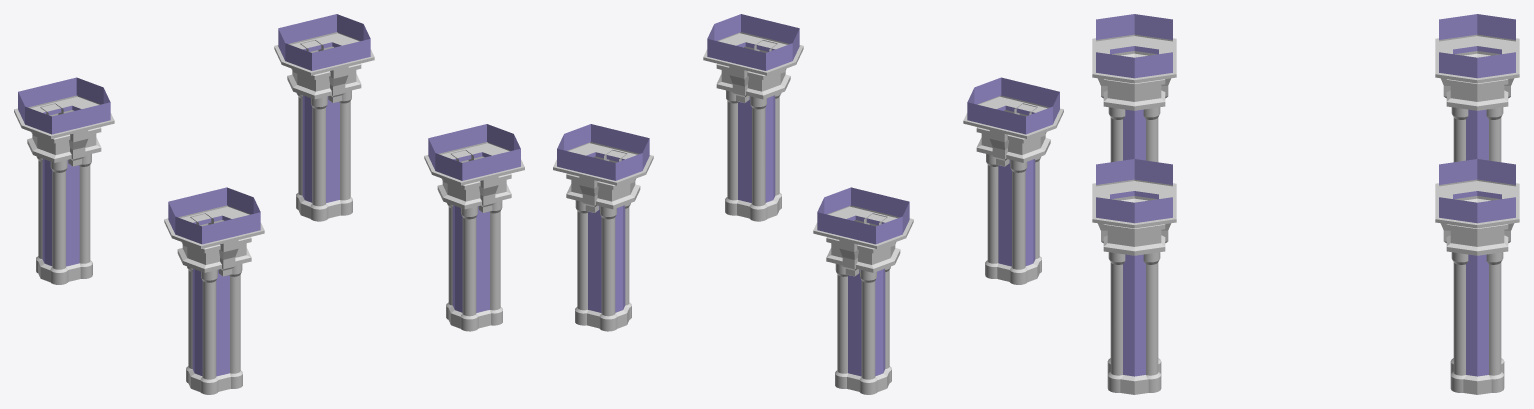
File: Exit Pillars.fbx
3 views of the same model, side by side, from view 1: azimuth 30°, elevation 25°; view 2: azimuth 150°, elevation 25°; view 3: azimuth 270°, elevation 25° (orthographic). The views are drawn at different scales.
Visible parts, largest first — view 1: pillar.028, pillar.029, pillar.027, pillar.030; view 2: pillar.027, pillar.030, pillar.028, pillar.029; view 3: pillar.027, pillar.028, pillar.029, pillar.030.
Boxes of the visible parts, x1,y1,x2,y2 form: pillar.028: (274,14,374,221); pillar.029: (164,187,264,394); pillar.027: (424,124,524,331); pillar.030: (14,77,114,284); pillar.027: (703,14,803,221); pillar.030: (813,187,913,394); pillar.028: (553,124,653,331); pillar.029: (963,77,1063,284); pillar.027: (1092,159,1176,394); pillar.028: (1435,159,1519,394); pillar.029: (1092,14,1176,162); pillar.030: (1435,14,1519,162).
Bounding box in the file's own units: 1328 × 647 × 1245.
